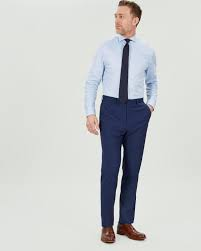F_dress pants: (95, 96, 150, 226)
F_shirt: (74, 29, 166, 121)
